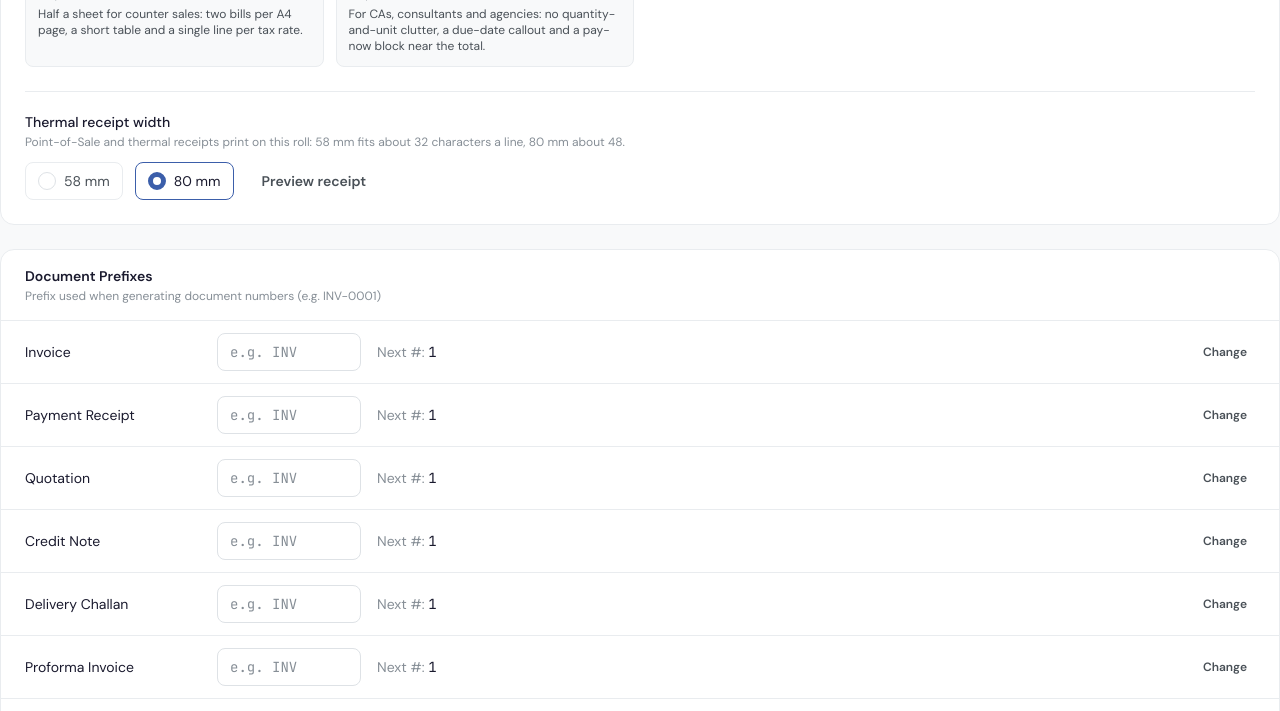
Test: DocumentsTab — SequenceEditor › clicking Change on the Invoice row reveals the warning panel
The image size is (1280, 711).
(page scrolled)
Click the 1st button "Change". click: (1225, 352)
box: [1195,340,1255,364]
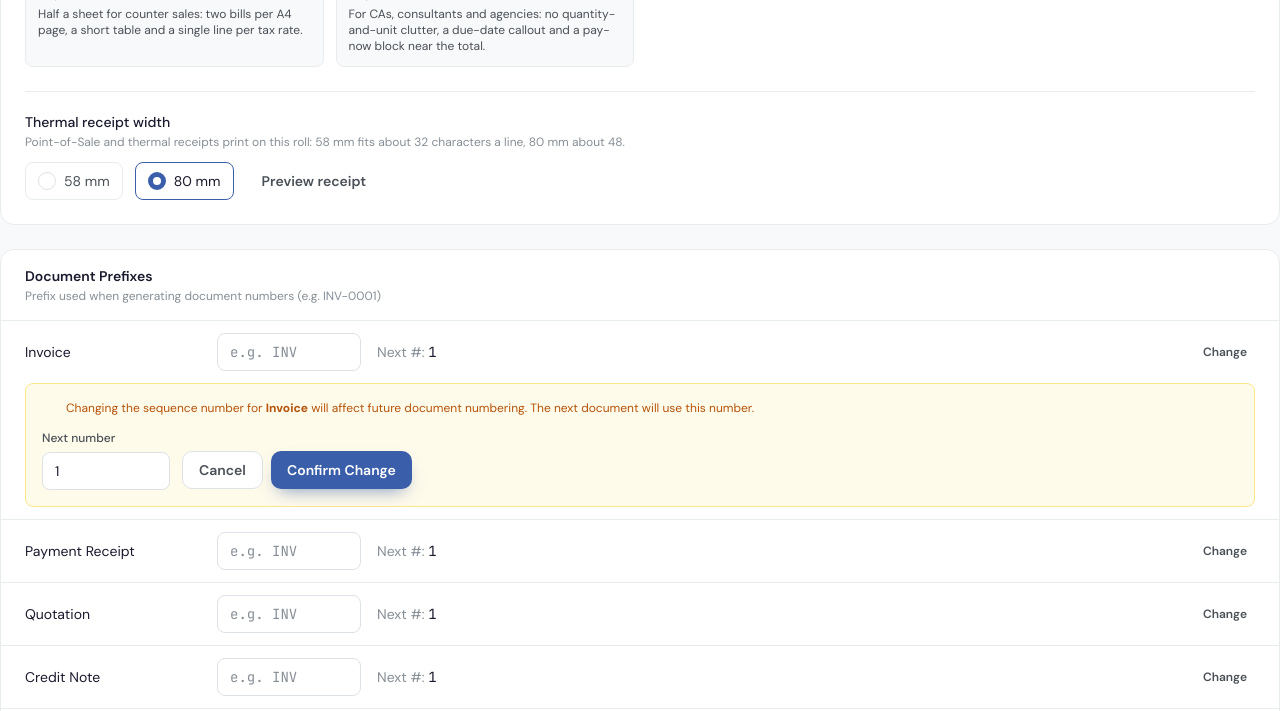
Result: the text "Changing the sequence number for" is shown at [66,400,266,416]
Result: the text "Invoice" next to "Changing the sequence number for" is shown at [266,400,308,416]
